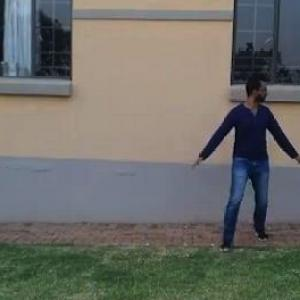land: (189, 71, 298, 254)
